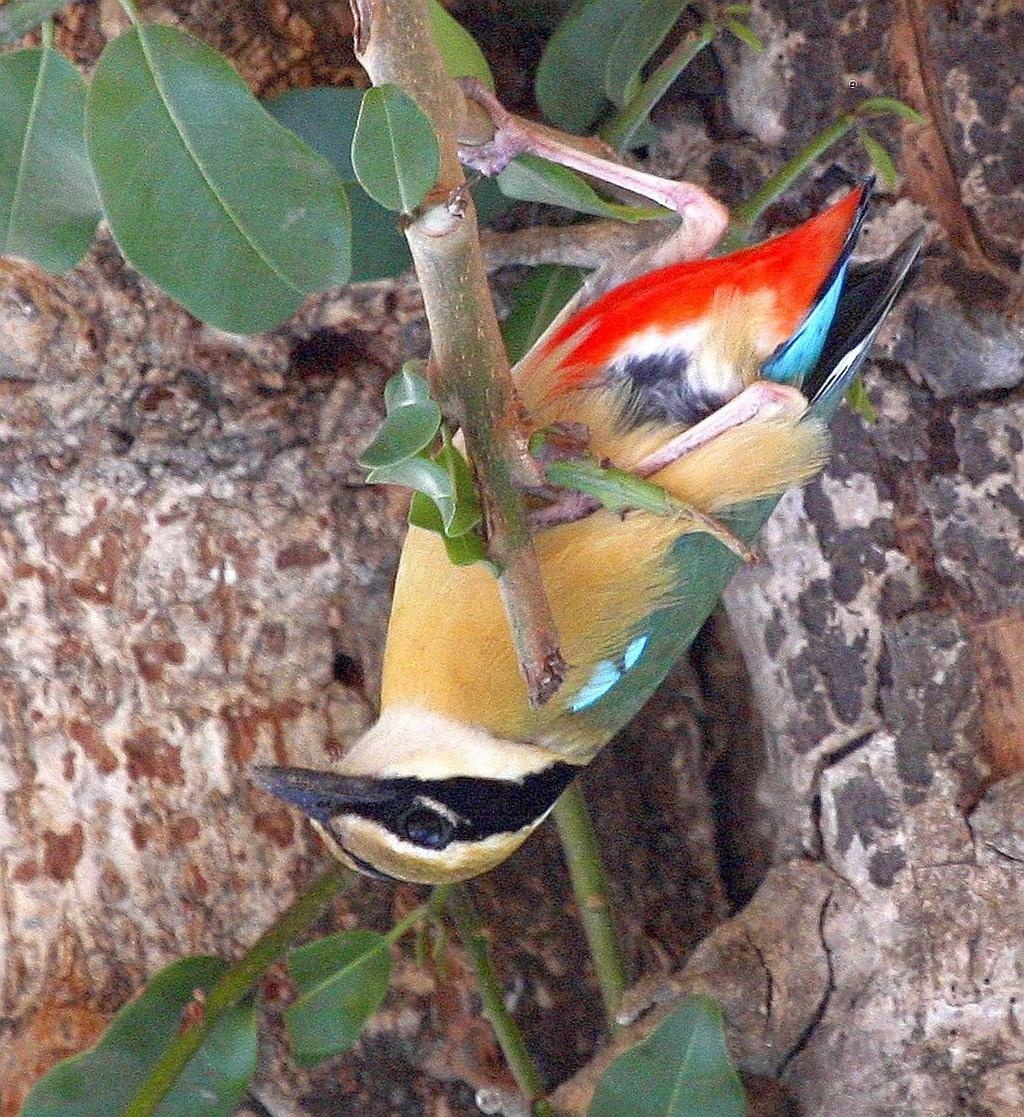pitta: (241, 179, 980, 931)
